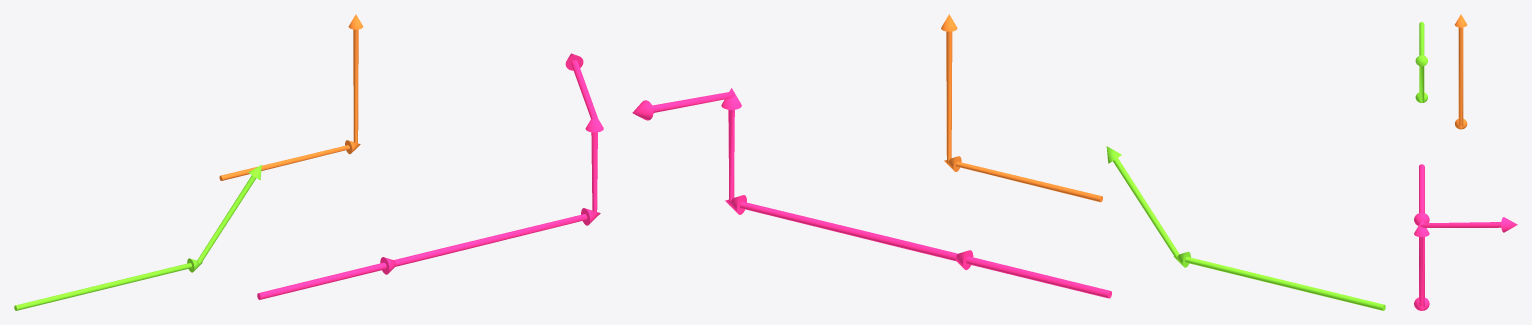
Rendered from engine_driven_generator_flow.glb.
The picture shows the model from 3 angles, left to right: view 1: azimuth 30°, elevation 25°; view 2: azimuth 150°, elevation 25°; view 3: azimuth 270°, elevation 25°; orthographic projection. The views are drawn at different scales.
Visible parts, largest first — view 1: power_flow, cooling_air, exhaust_gas; view 2: power_flow, cooling_air, exhaust_gas; view 3: power_flow, exhaust_gas, cooling_air.
Boxes of the visible parts, x1,y1,x2,y2 form: power_flow: (257,53,603,299); cooling_air: (14,165,261,310); exhaust_gas: (219,14,362,180); power_flow: (632,88,1111,298); cooling_air: (1106,146,1385,310); exhaust_gas: (941,14,1102,202); power_flow: (1414,164,1517,310); exhaust_gas: (1455,14,1467,129); cooling_air: (1415,22,1427,102).
Size of the model in its own units: 2.02 by 0.7695 by 0.3447.
